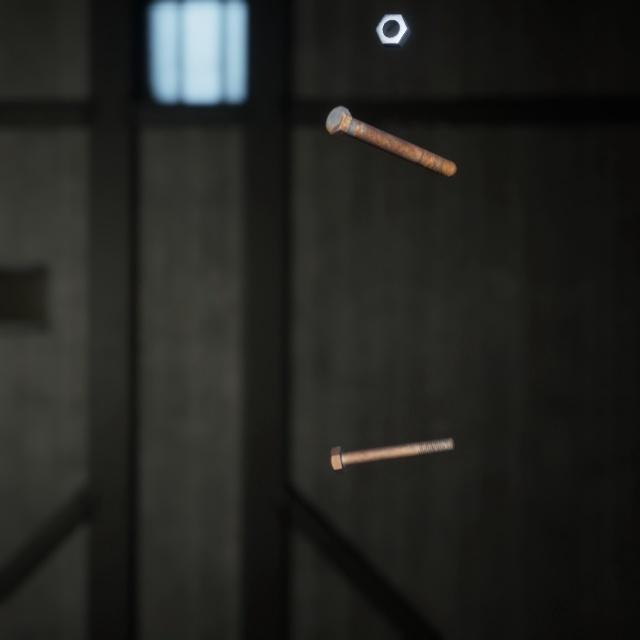bolt: (321, 89, 461, 169), (326, 413, 459, 458)
nut: (371, 2, 415, 44)
